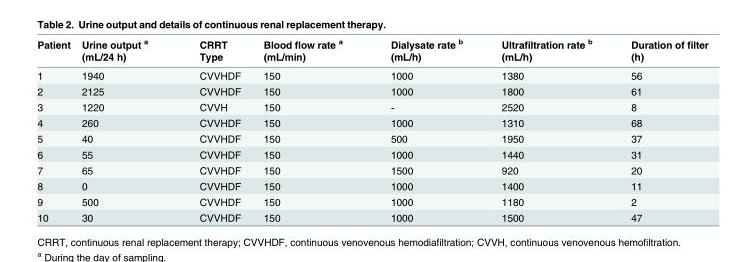table: (36, 36, 707, 222)
table column: (481, 36, 610, 222), (365, 36, 481, 222), (251, 36, 365, 222), (75, 36, 172, 222), (610, 36, 707, 222), (172, 36, 251, 222), (36, 36, 75, 222)
table column header: (36, 36, 707, 65)
table row: (36, 36, 707, 65), (36, 65, 707, 83), (36, 98, 707, 114), (36, 114, 707, 130), (36, 130, 707, 146), (36, 161, 707, 177), (36, 177, 707, 193), (36, 193, 707, 209), (36, 83, 707, 98), (36, 146, 707, 161), (36, 209, 707, 222)
